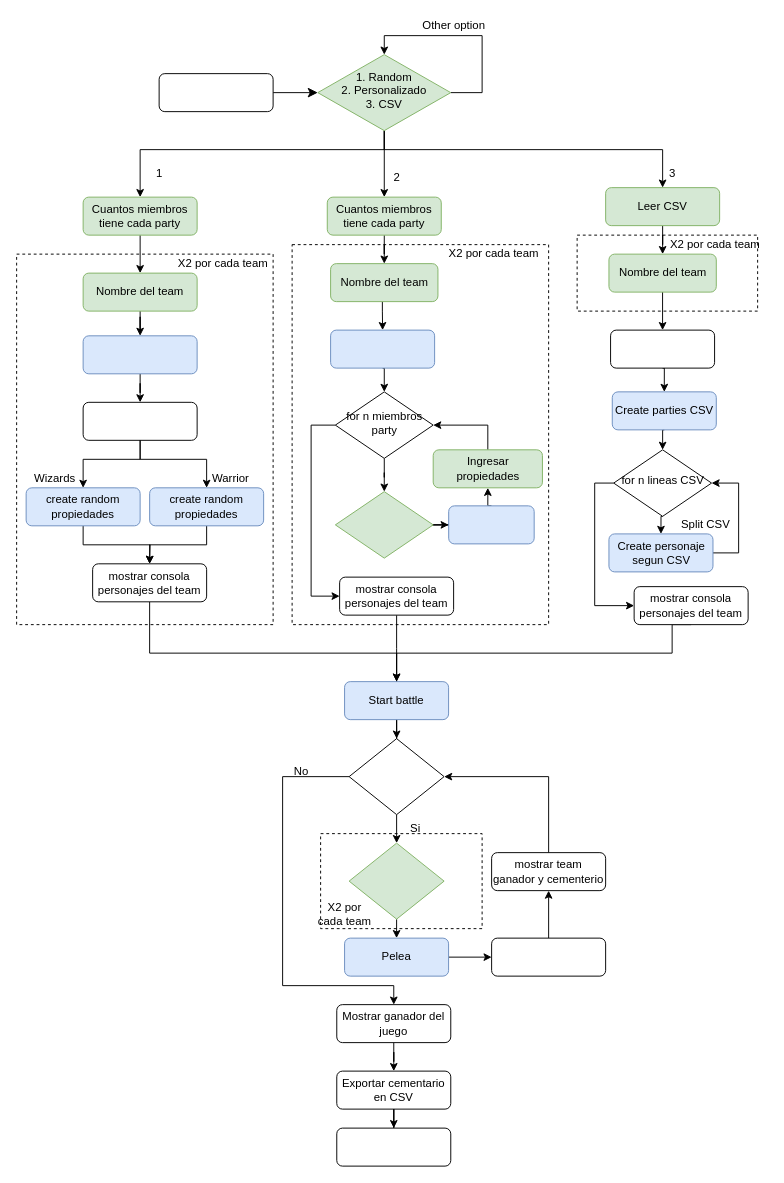
This 784x1183 diagram has some shape labels left out. The shapes that lost their labels are listed below. From the top down, each one's box as (x1, y1, x2, y2) in pixels, then its label:
(158, 73, 273, 112): Start game
(82, 335, 197, 374): Create random party
(330, 329, 435, 368): Create custom party
(610, 329, 715, 368): Leer y contar filas del CSV
(82, 401, 197, 440): Random num wizard y warrior
(334, 491, 433, 558): ¿Warrior o wizard?
(448, 505, 534, 544): custom propiedades
(348, 738, 444, 815): while haya un team vivo
(348, 842, 444, 919): elegir un personaje by ID
(491, 937, 606, 976): eliminar muerto(s)
(336, 1127, 451, 1166): END GAME
